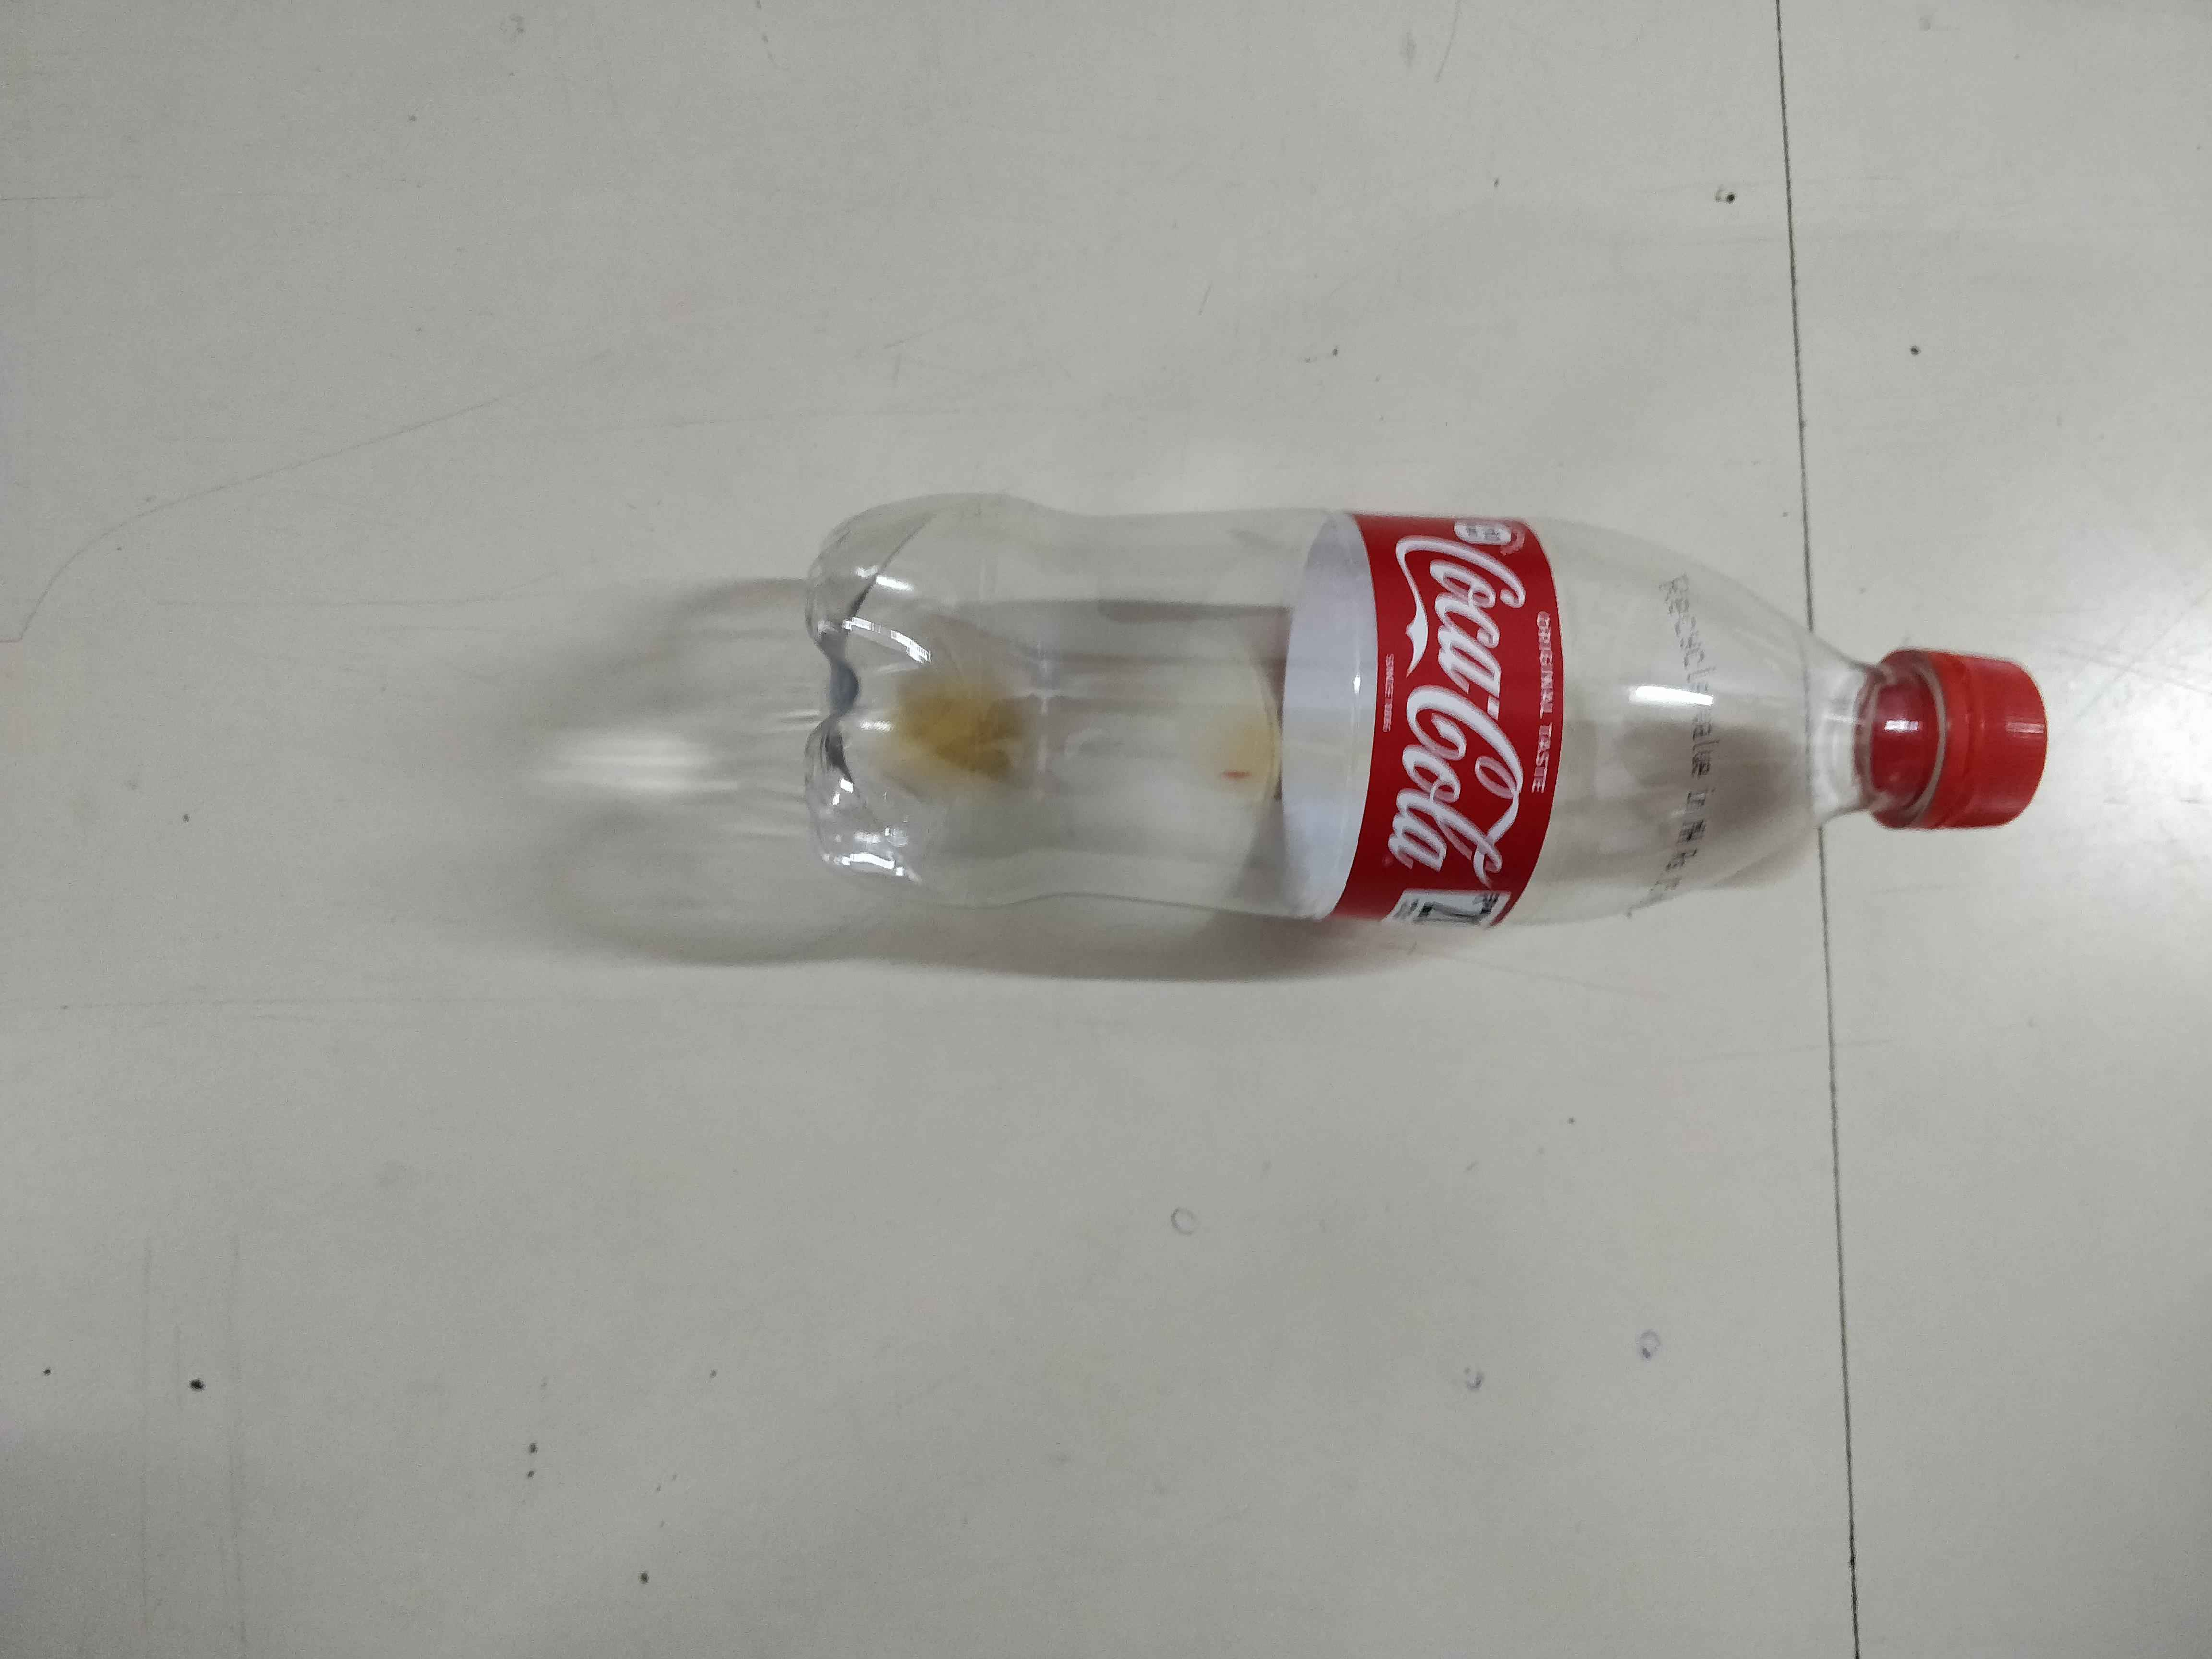Coca-Cola: (1374, 507, 1538, 941)
